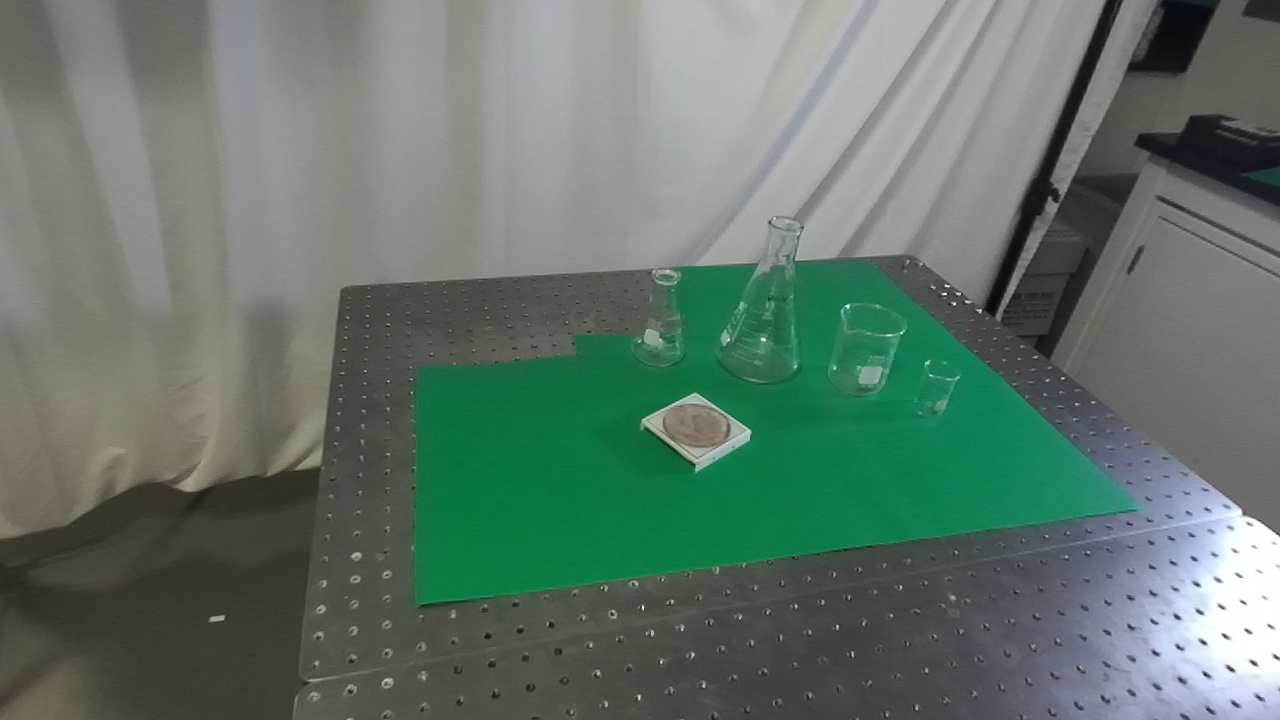glass: (711, 208, 807, 390), (822, 298, 912, 402), (629, 263, 689, 371), (912, 356, 962, 424)
plate: (636, 389, 757, 473)
